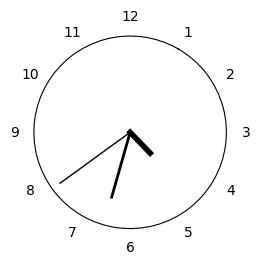12: (120, 9, 140, 23)
circle: (34, 36, 227, 228)
hours: (127, 128, 153, 156)
minutes: (110, 136, 130, 198)
seconds: (58, 134, 129, 184)
